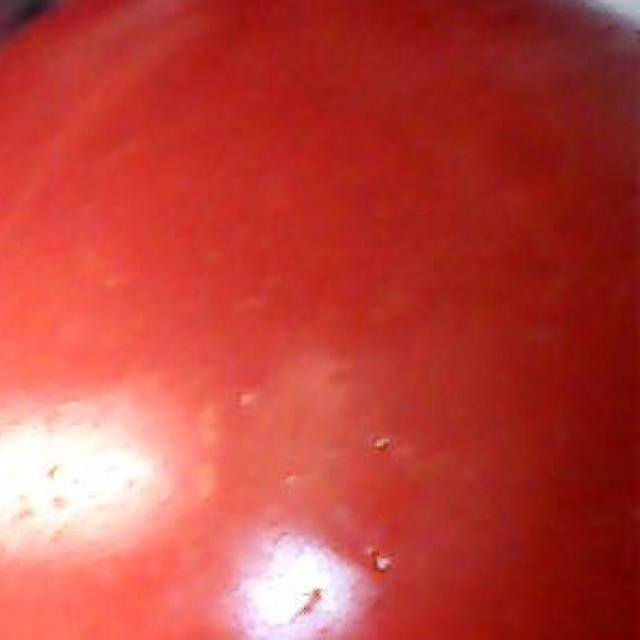Healthy Fruit: (5, 6, 427, 427)
